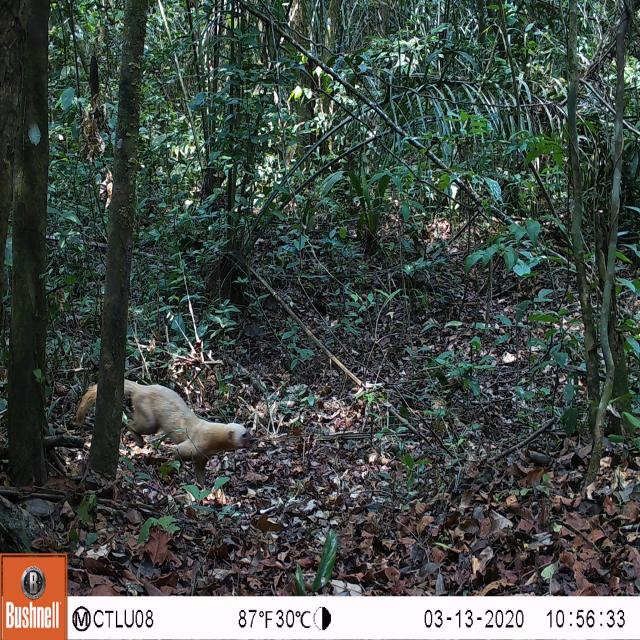Southern Tamandua: (61, 362, 260, 493)
